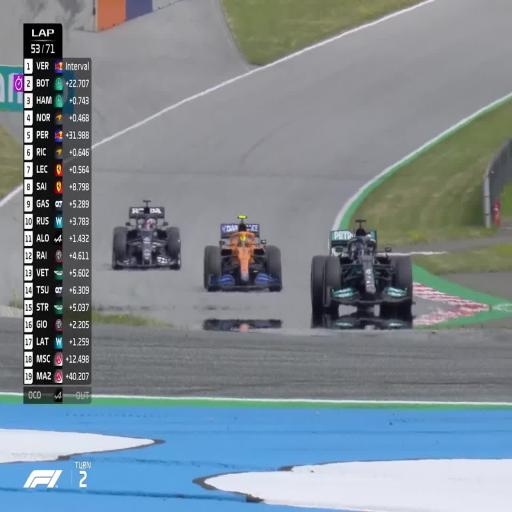f1_car: (310, 219, 413, 318), (204, 216, 282, 291), (112, 199, 181, 268)
